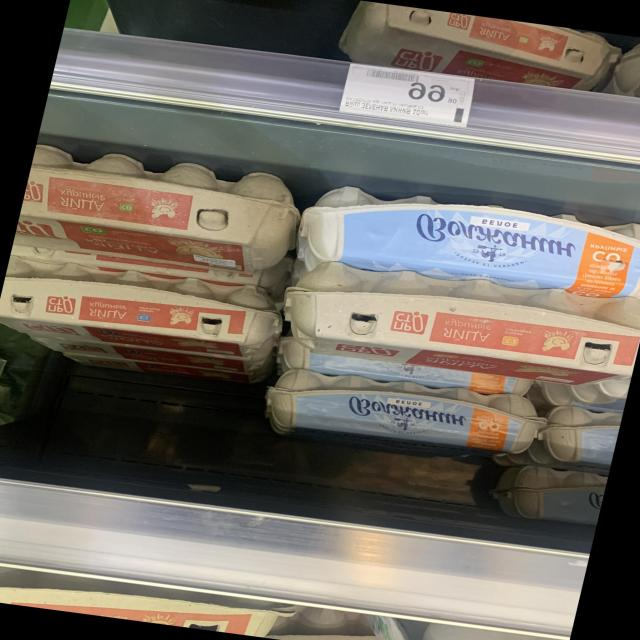organic waste: (274, 254, 640, 394), (13, 142, 306, 278), (0, 251, 289, 370)
